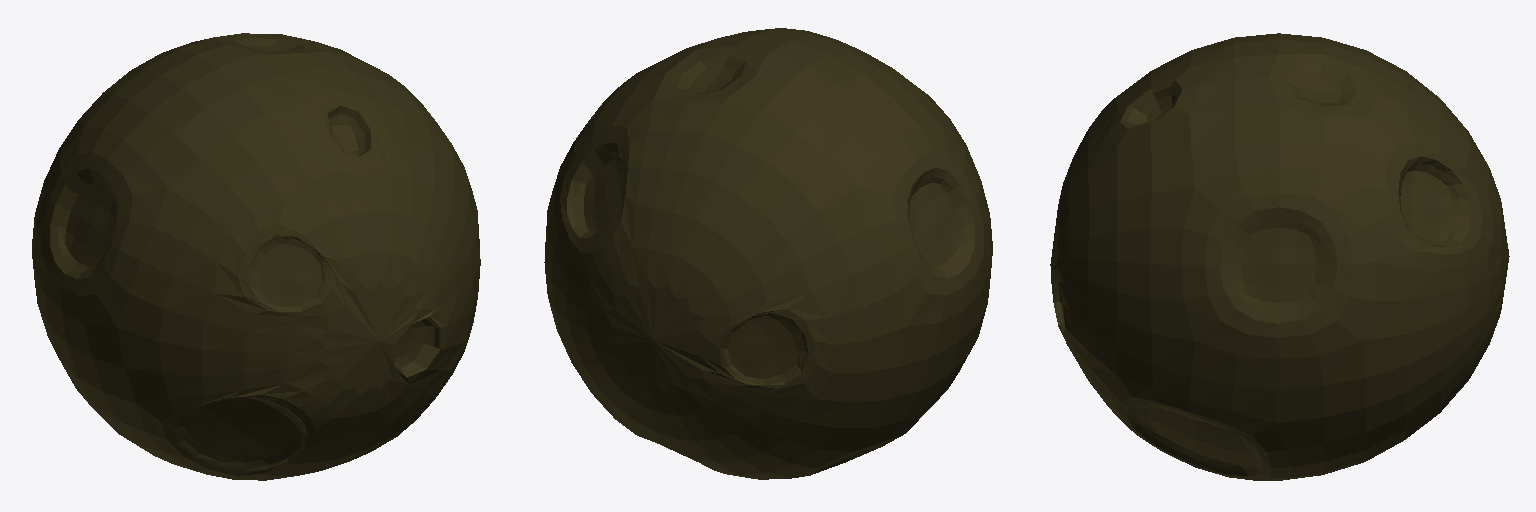
The model's file is planet.obj.
The picture shows the model from 3 angles: view 1: azimuth 30°, elevation 25°; view 2: azimuth 150°, elevation 25°; view 3: azimuth 270°, elevation 25°; orthographic projection.
Parts seen in each view (by area): view 1: low_球体; view 2: low_球体; view 3: low_球体.
Boxes of the visible parts, x1,y1,x2,y2 form: low_球体: [32, 33, 480, 480]; low_球体: [544, 28, 992, 479]; low_球体: [1050, 33, 1509, 480].
Bounding box in the file's own units: 1.75 × 1.73 × 1.78.